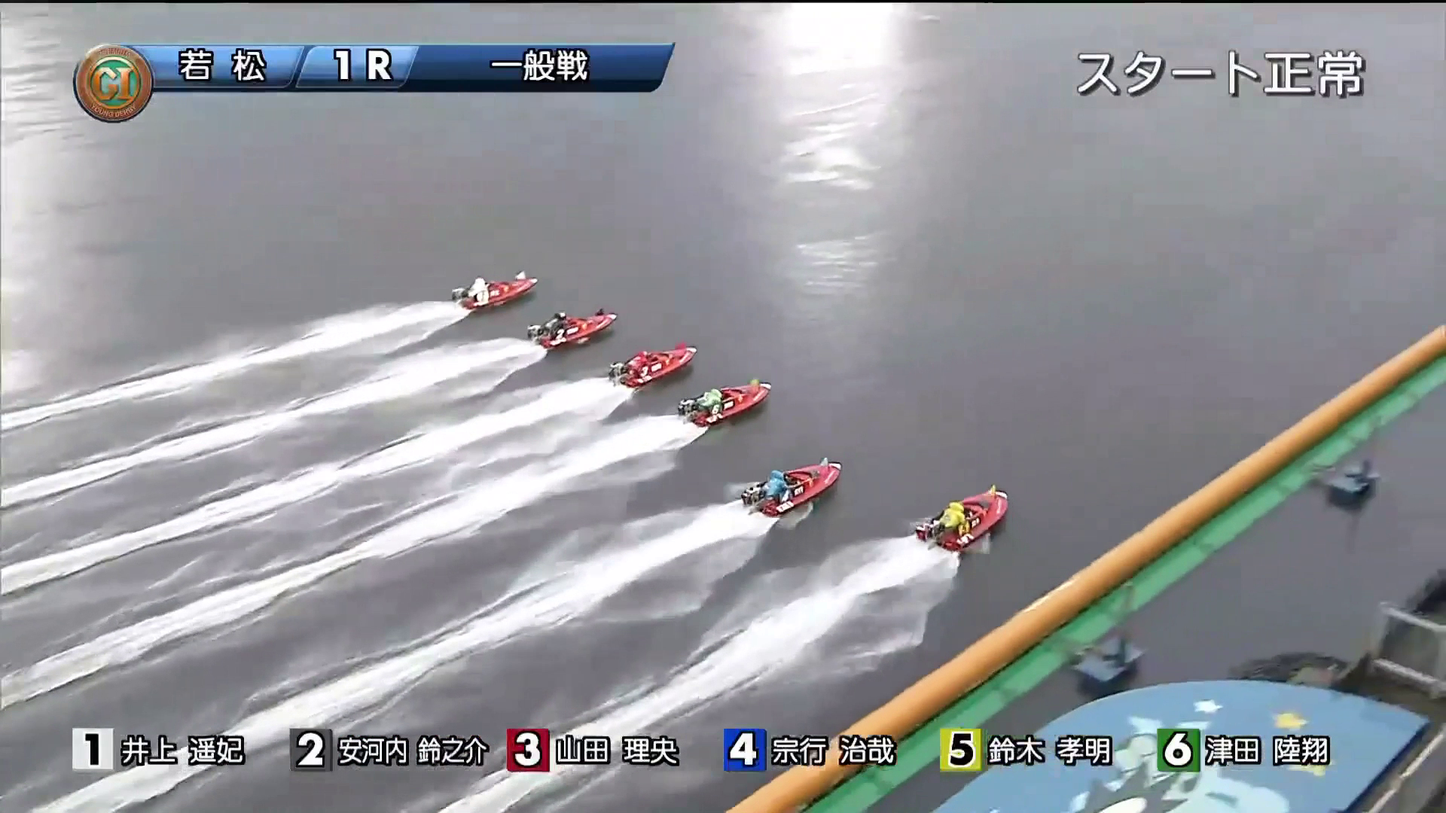１号艇: (1045, 379, 1121, 419)
２号艇: (699, 327, 789, 365)
３号艇: (684, 360, 775, 402)
４号艇: (672, 396, 777, 439)
５号艇: (606, 440, 727, 495)
６号艇: (677, 488, 776, 545)
